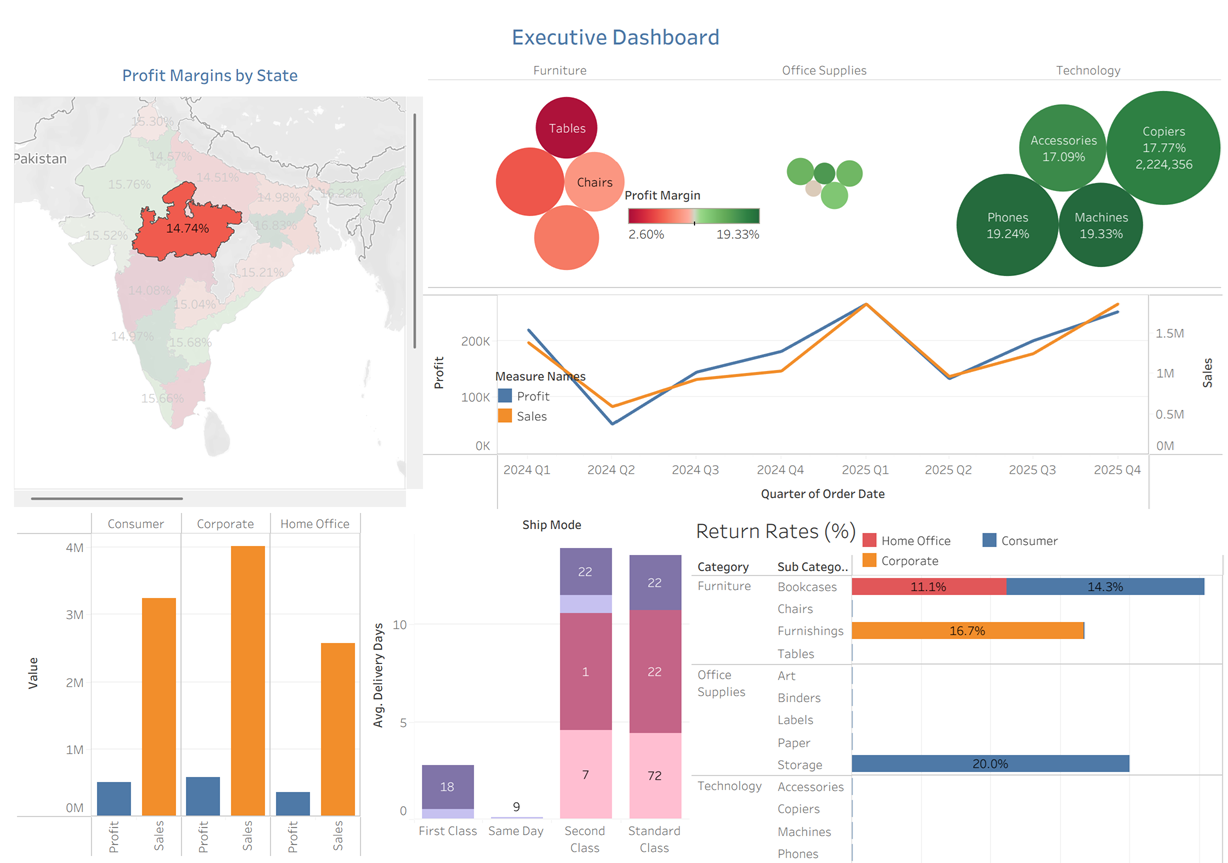

The page's visual inventory and layout, read from the dashboard file:
{"tool":"tableau","page":{"name":"Executive Dashboard","canvas":[1000,1000],"units":"permille","ordinal":0},"visuals":[{"type":"text","box":[186.9,18.1,627.1,46]},{"type":"worksheet","title":"Regional Performance View","mark":"Multipolygon","box":[7.4,68.3,335.2,520.2]},{"type":"worksheet","title":"Category Profitability View","mark":"Circle","cols":["category"],"box":[346.7,68.3,650,270.6]},{"type":"legend","title":"Category Profitability View","param":"[federated.1c7ksvu1msn88s0znw6xs0fwabho].[usr:Calculation_0670718913286146:qk]","box":[507.4,216.2,114.8,106]},{"type":"worksheet","title":"Sales Trend View","mark":"Automatic","rows":["profit","sales"],"cols":["order_date"],"box":[342.6,341.7,655.7,249.7]},{"type":"legend","title":"Sales Trend View","param":"[federated.1c7ksvu1msn88s0znw6xs0fwabho].[:Measure Names]","box":[401.6,426.8,123,79.5]},{"type":"worksheet","title":"Return Analysis View","mark":"Automatic","rows":["category","sub_category"],"cols":["Calculation_0670718914060293"],"box":[562.3,594.1,436.1,410]},{"type":"worksheet","title":"Customer Segment View","mark":"Automatic","cols":["customer_segment"],"box":[9.8,595.5,282,400.3]},{"type":"worksheet","title":"Shipping Performance View","mark":"Automatic","rows":["delivery_days"],"cols":["ship_mode"],"box":[298.4,596.9,262.3,401.7]},{"type":"legend","title":"Return Analysis View","param":"[federated.1c7ksvu1msn88s0znw6xs0fwabho].[none:customer_segment:nk]","box":[700,615.1,300,46]}]}

Visuals, with their boxes on the dashboard's canvas, which has no fixed pixel size, in thousandths of its width and height (x1, y1, x2, y2). These are canvas units, not pixel positions in the 1228x863 screenshot, which may show the page scaled, cropped or inside an application window:
text: select_region(187, 18, 814, 64)
"Regional Performance View" worksheet (Multipolygon marks): select_region(7, 68, 343, 588)
"Category Profitability View" worksheet (Circle marks): select_region(347, 68, 997, 339)
"Category Profitability View" legend: select_region(507, 216, 622, 322)
"Sales Trend View" worksheet: select_region(343, 342, 998, 591)
"Sales Trend View" legend: select_region(402, 427, 525, 506)
"Return Analysis View" worksheet: select_region(562, 594, 998, 1004)
"Customer Segment View" worksheet: select_region(10, 596, 292, 996)
"Shipping Performance View" worksheet: select_region(298, 597, 561, 999)
"Return Analysis View" legend: select_region(700, 615, 1000, 661)
